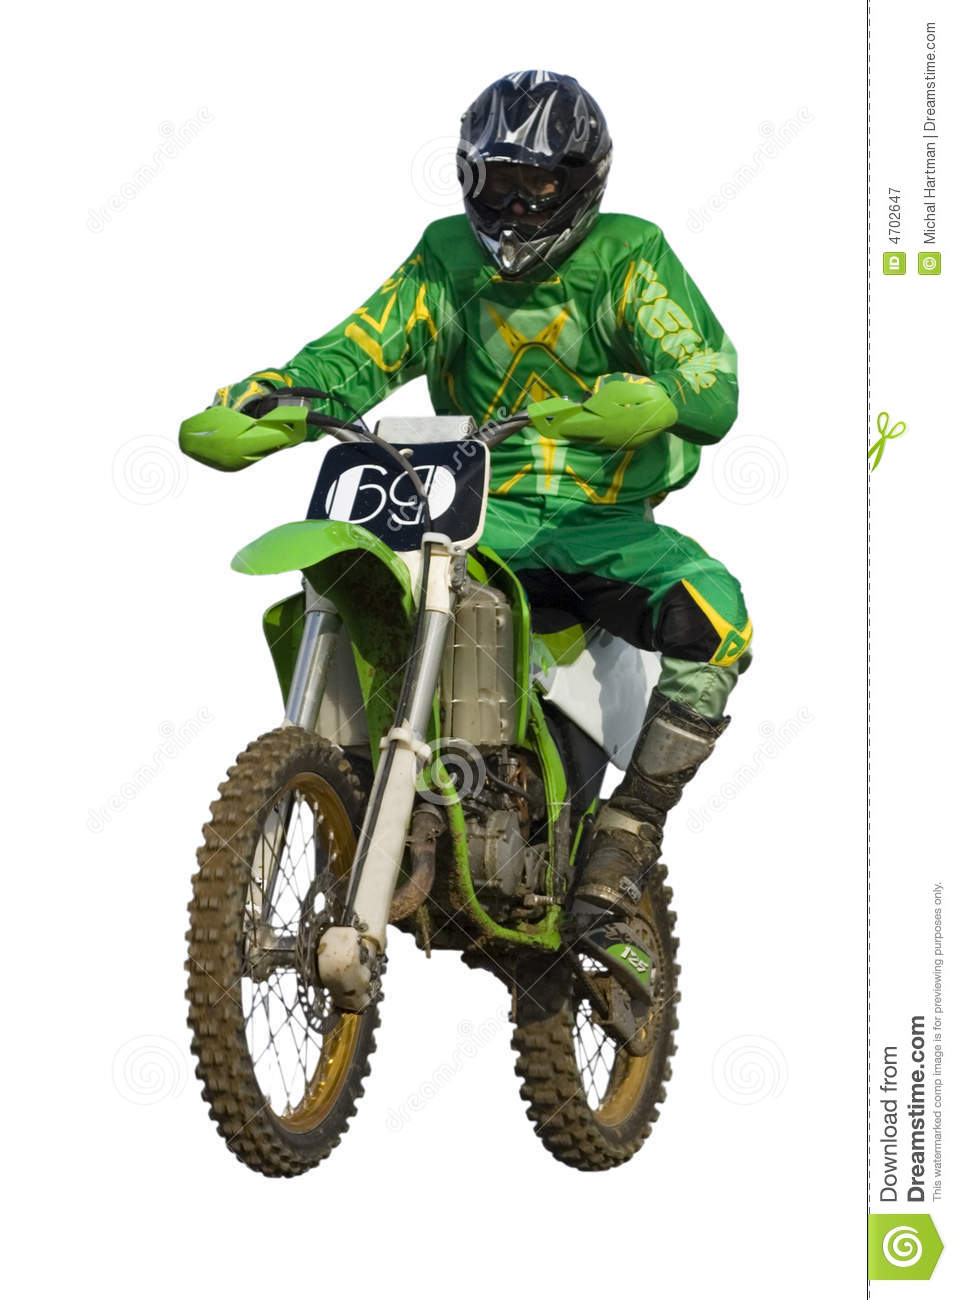helmet: (456, 61, 622, 265)
